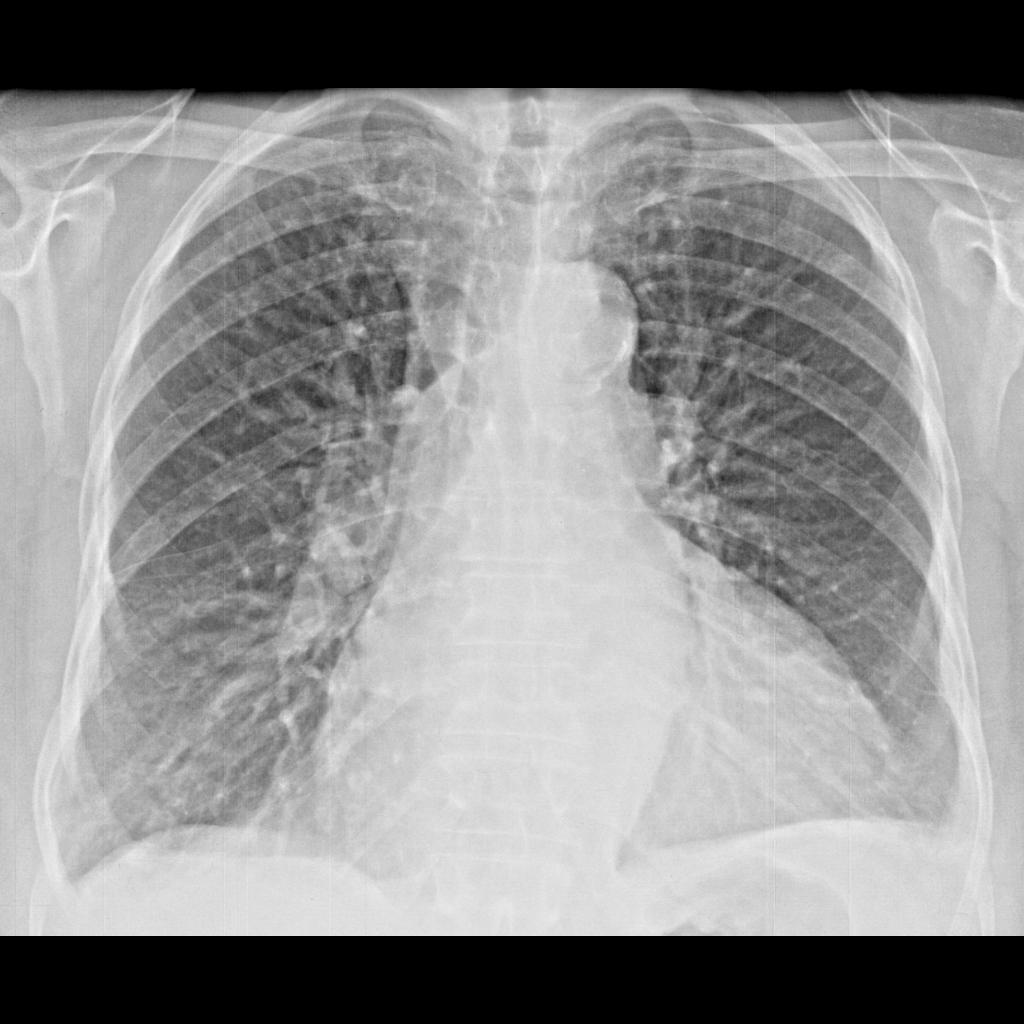Nodule: (830, 249, 862, 281)
